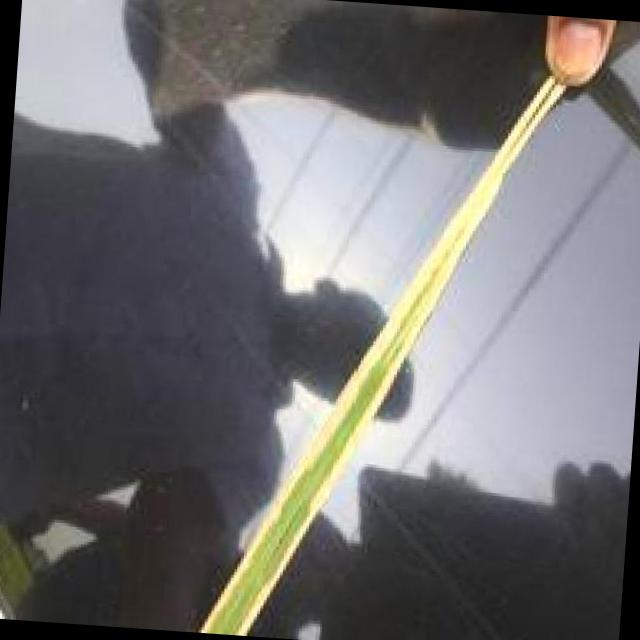Rice_Bacterial_Blight: (268, 118, 502, 540)
